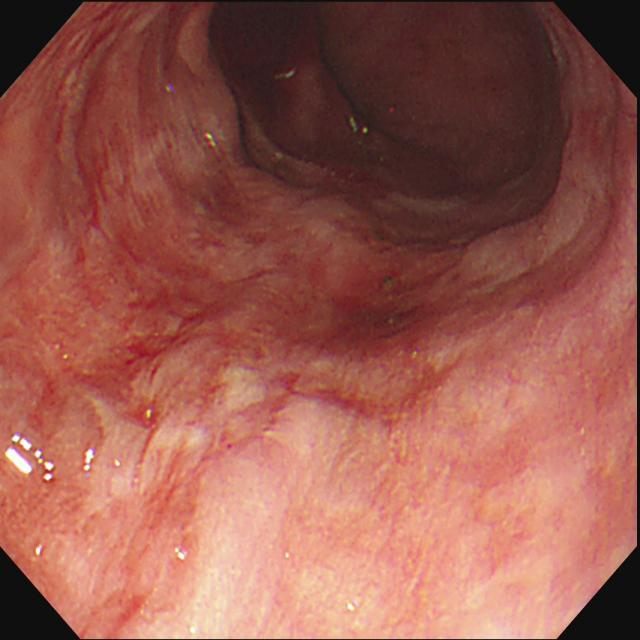A: (22, 198, 264, 428), (72, 106, 181, 236)
C: (315, 226, 476, 406)
U: (3, 433, 56, 487), (82, 449, 98, 475), (174, 547, 187, 564)
